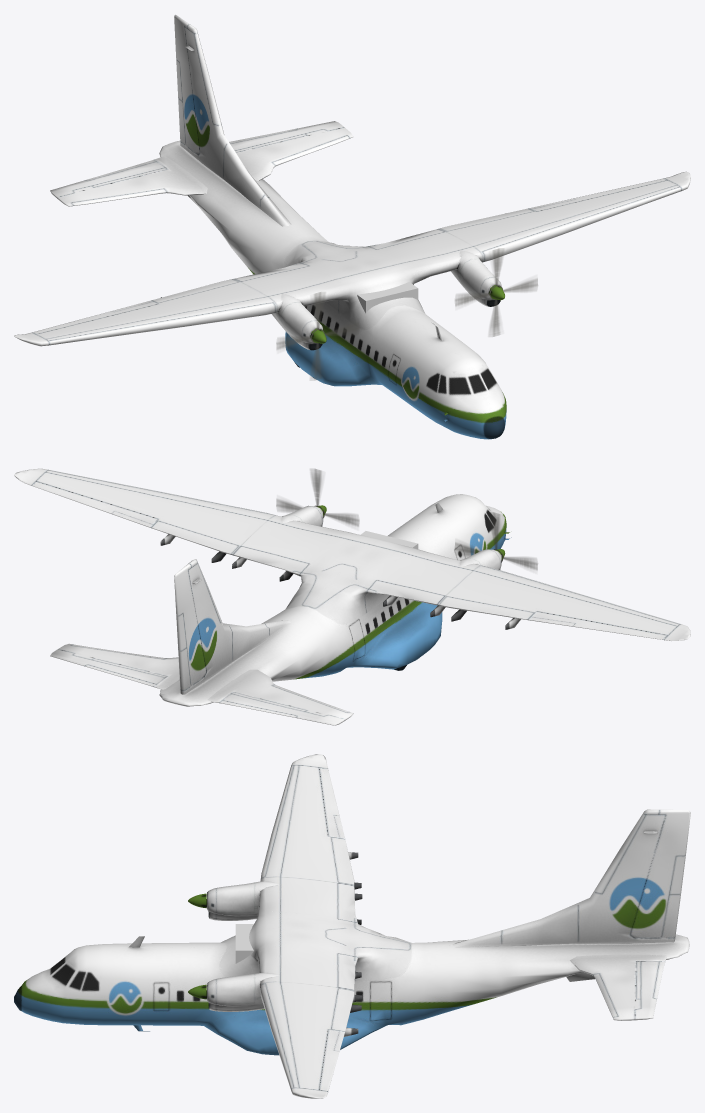
The model's file is Cesium_Air.glb.
3 views of the same model, one above another, from view 1: azimuth 30°, elevation 25°; view 2: azimuth 150°, elevation 25°; view 3: azimuth 270°, elevation 25° (orthographic). The views are drawn at different scales.
Parts seen in each view (by area): view 1: Cesium_Air, Prop, Prop__2_, Cube; view 2: Cesium_Air, Prop__2_, Prop; view 3: Cesium_Air, Cube.
Part boxes in pixels (<box>): Cesium_Air: <box>14,14,690,439</box>; Prop: <box>276,292,359,380</box>; Prop__2_: <box>455,248,537,336</box>; Cube: <box>357,282,418,313</box>; Cesium_Air: <box>14,468,690,725</box>; Prop__2_: <box>276,469,359,526</box>; Prop: <box>455,512,537,570</box>; Cesium_Air: <box>14,754,690,1098</box>; Cube: <box>235,924,253,963</box>.
Bounding box in the file's own units: 25.74 × 7.76 × 21.4.
3 materials, 2 textured.
